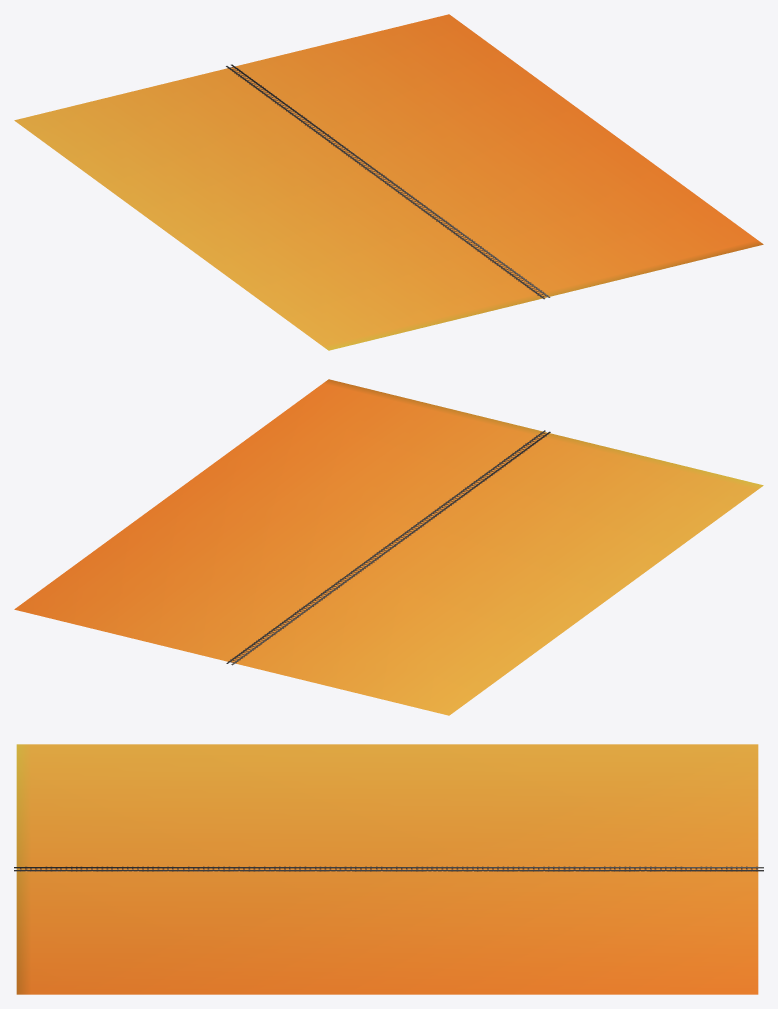
Rendered from LevelFloor.fbx.
3 renders of one model, top to bottom at view 1: azimuth 30°, elevation 25°; view 2: azimuth 150°, elevation 25°; view 3: azimuth 270°, elevation 25°, orthographic. The views are drawn at different scales.
Parts seen in each view (by area): view 1: Plane, Plane.002, Plane.003; view 2: Plane, Plane.002, Plane.003; view 3: Plane, Plane.002, Plane.003.
Part boxes in pixels (x1,y1,x2,y2): Plane: (14, 14, 763, 350); Plane.002: (226, 64, 550, 299); Plane.003: (227, 66, 548, 297); Plane: (14, 379, 763, 715); Plane.002: (226, 430, 550, 665); Plane.003: (228, 432, 548, 663); Plane: (16, 744, 758, 994); Plane.002: (14, 867, 763, 871); Plane.003: (20, 866, 757, 871).
Size of the model in its own units: 16010 by 12.76 by 20276.
